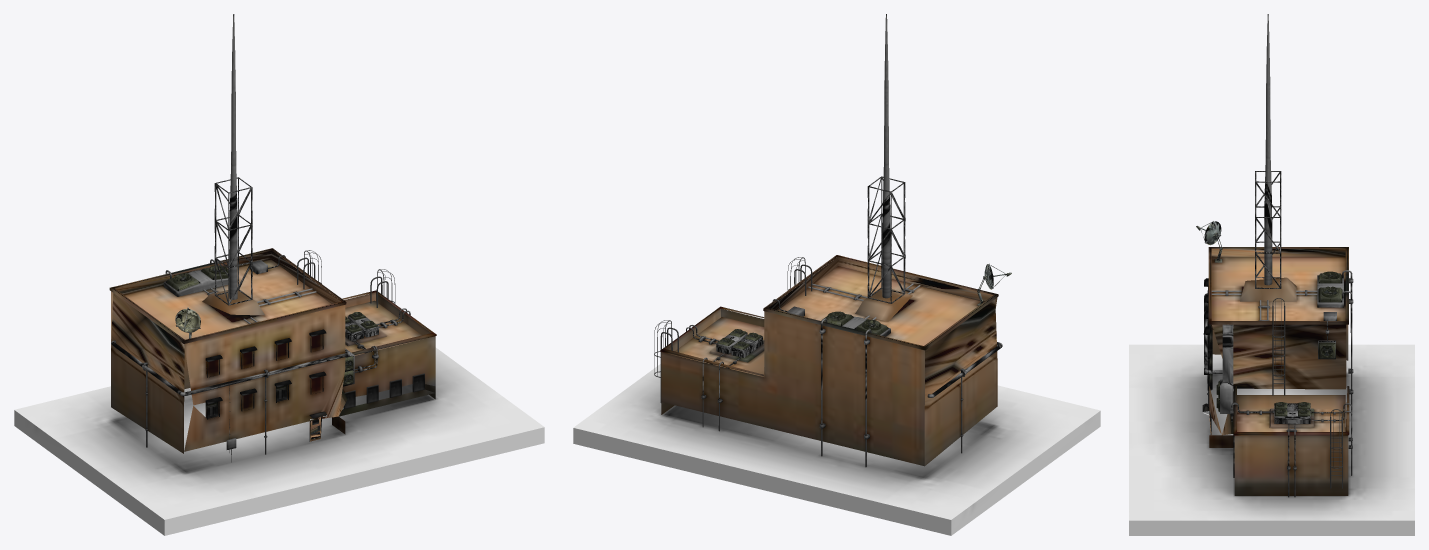
Rendered from building-9.glb.
The picture shows the model from 3 angles, left to right: view 1: azimuth 30°, elevation 25°; view 2: azimuth 150°, elevation 25°; view 3: azimuth 270°, elevation 25°; orthographic projection. The views are drawn at different scales.
Parts seen in each view (by area): view 1: Plane.020, Plane, Plane.022; view 2: Plane, Plane.020, Plane.022; view 3: Plane.020, Plane, Plane.022, Circle.003, Circle.011, Plane.014.
Part boxes in pixels (x1,y1,x2,y2): Plane.020: [14, 347, 544, 535]; Plane: [109, 248, 436, 453]; Plane.022: [111, 14, 410, 462]; Plane: [660, 255, 998, 466]; Plane.020: [573, 364, 1100, 535]; Plane.022: [686, 14, 1002, 467]; Plane.020: [1129, 344, 1414, 535]; Plane: [1202, 247, 1349, 495]; Plane.022: [1203, 14, 1353, 497]; Circle.003: [1196, 221, 1222, 262]; Circle.011: [1318, 286, 1342, 302]; Plane.014: [1272, 323, 1285, 365].
Bounding box in the file's own units: 33 × 35.96 × 22.62.
Materials: 15 (13 with a texture image).
